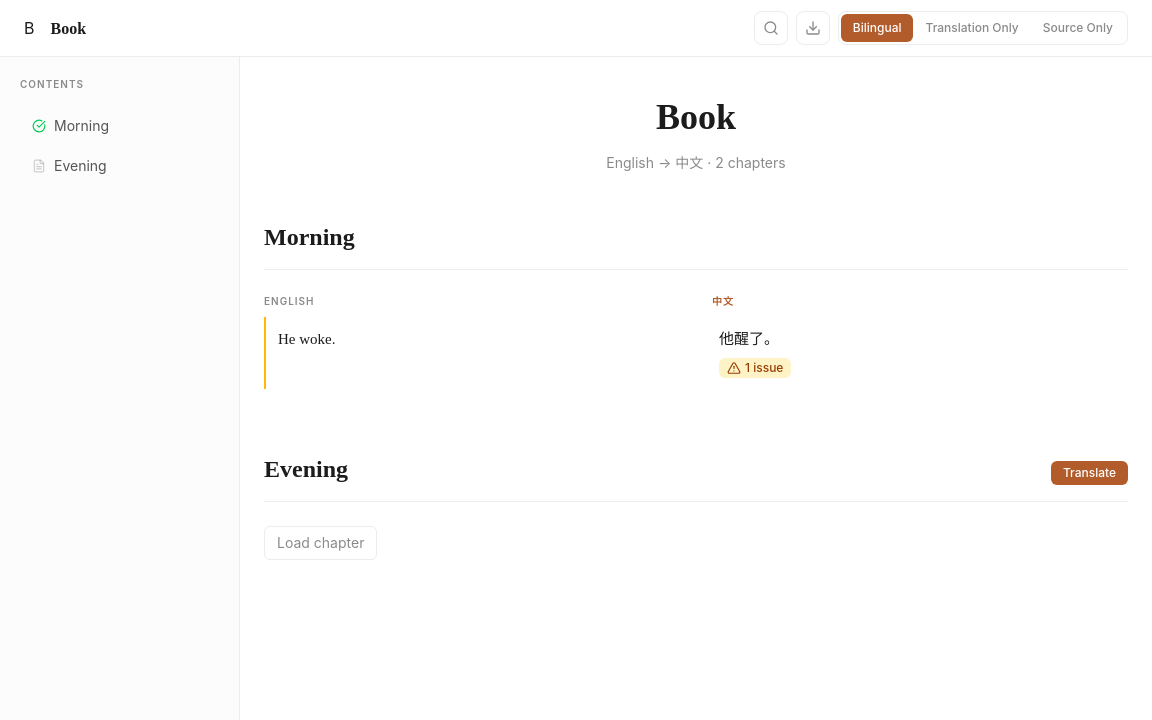
ReaderView › renders the first chapter and loads another chapter on demand
This screenshot has width=1152, height=720.
Check: the text "He woke." is shown, box [278, 331, 336, 347]
Check: the text "Night fell." is not shown
Click the button with aria-label "load evening" at (321, 542), box [264, 526, 377, 560]
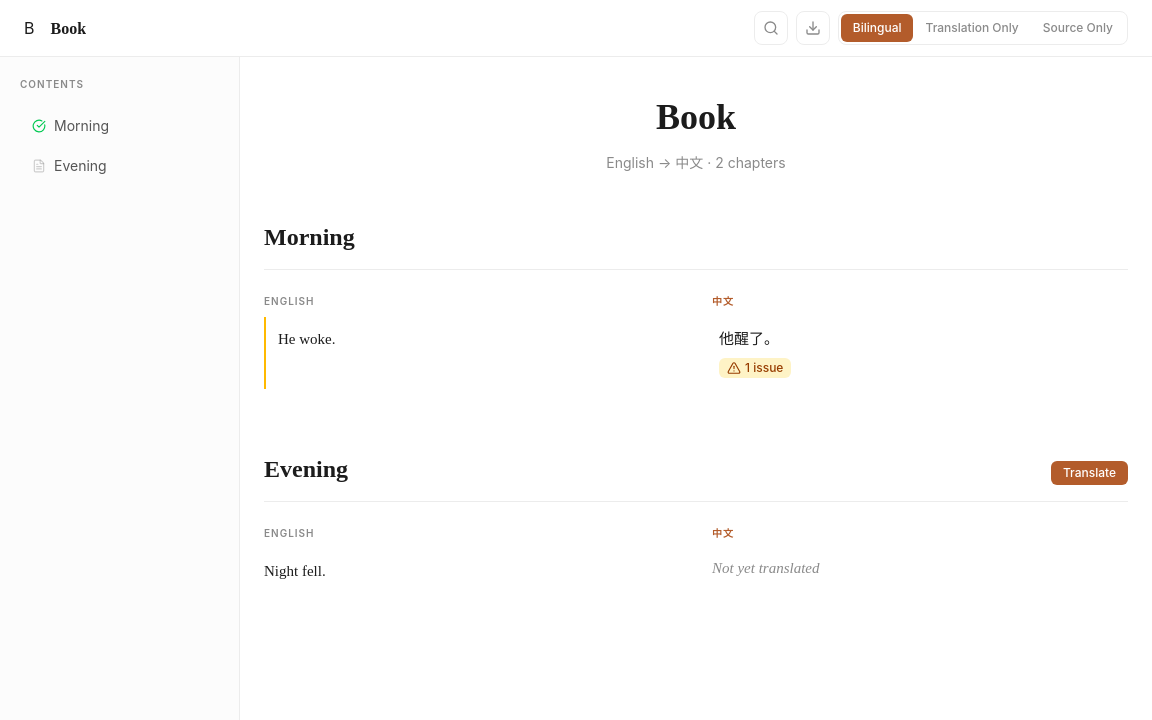
Check: the text "Night fell." is shown, box [264, 562, 326, 578]
Check: the text "Not yet translated" is shown, box [712, 560, 820, 576]
